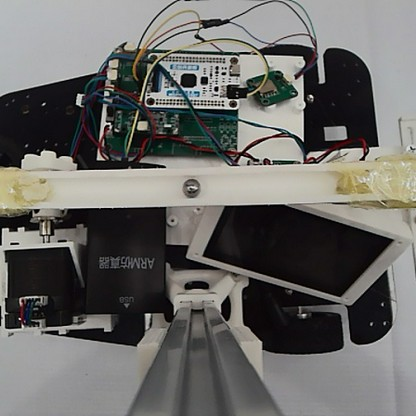ironball: (179, 175, 201, 198)
